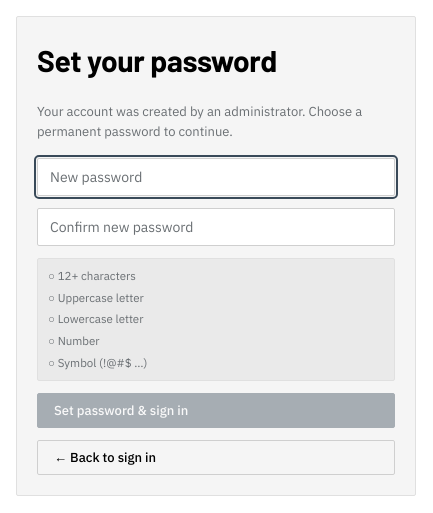
Login › enables the set-password submit only once the new password meets the policy and matches
Type "weak" into the password field labelled "New password" at (216, 177), box [37,158,395,196]
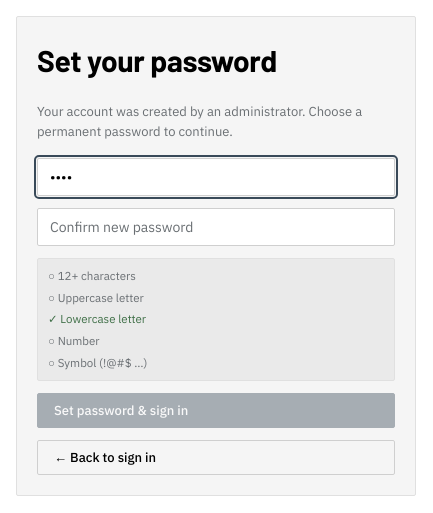
Expected: the button "Set password & sign in" is disabled, [37,393,395,428]
Type "orGoodPass123!" into the password field named "New password" at (216, 177), box [37,158,395,196]
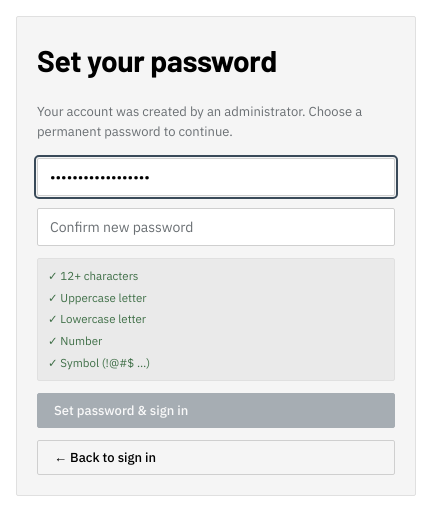
Expected: the button "Set password & sign in" is disabled, [37,393,395,428]
Type "weakorGoodPass123!" into the password field labelled "Confirm new password" at (216, 227), box [37,208,395,246]
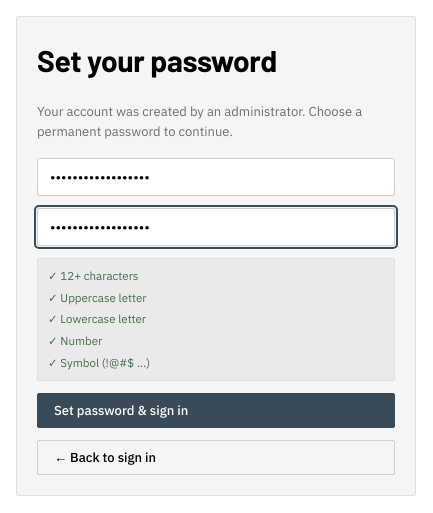
Expected: the button "Set password & sign in" is enabled, [37,393,395,428]
